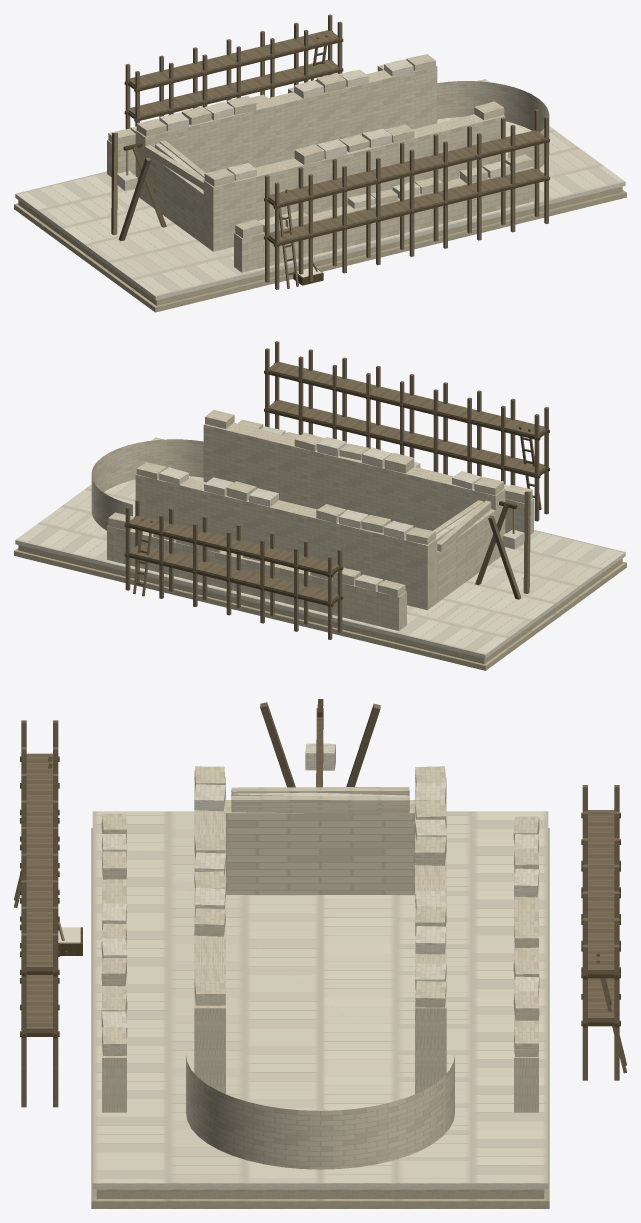
File: pol-3-construction.glb
3 views of the same model, one above another, from view 1: azimuth 30°, elevation 25°; view 2: azimuth 150°, elevation 25°; view 3: azimuth 270°, elevation 25° (orthographic). The views are drawn at different scales.
Size of the model in its own units: 42 by 10.2 by 29.16.
20 materials, 17 textured.
